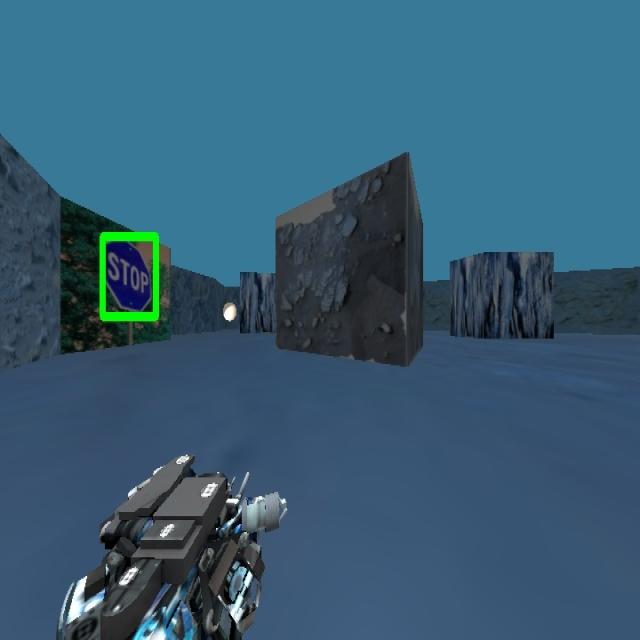Circle: (223, 294, 241, 333)
Stop_Sign: (98, 230, 160, 324)
